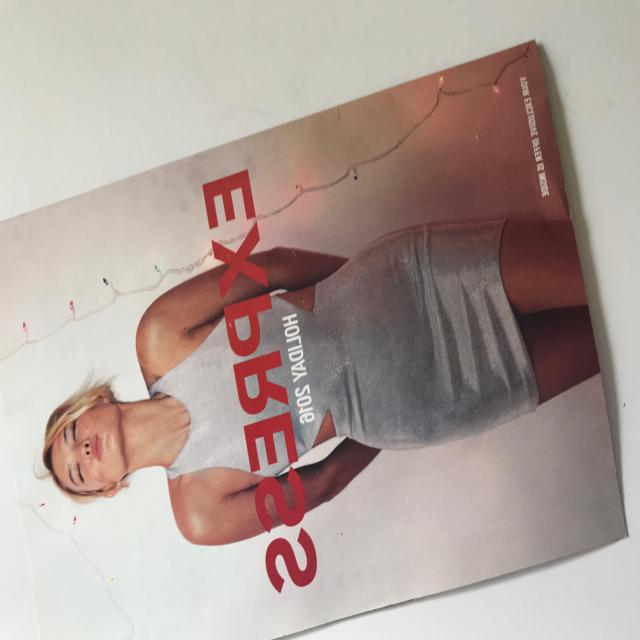paper: (0, 26, 638, 640)
